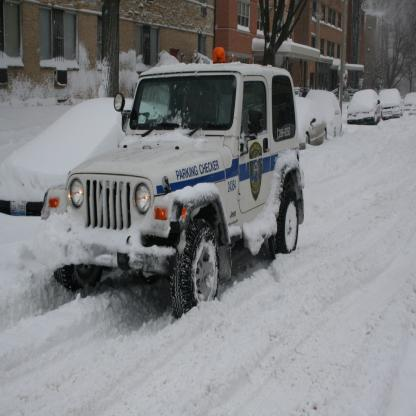Car: (55, 48, 305, 319), (1, 99, 164, 218), (296, 98, 328, 150), (307, 91, 342, 138), (348, 91, 384, 126), (380, 92, 405, 122), (405, 94, 416, 112), (410, 99, 416, 117)
